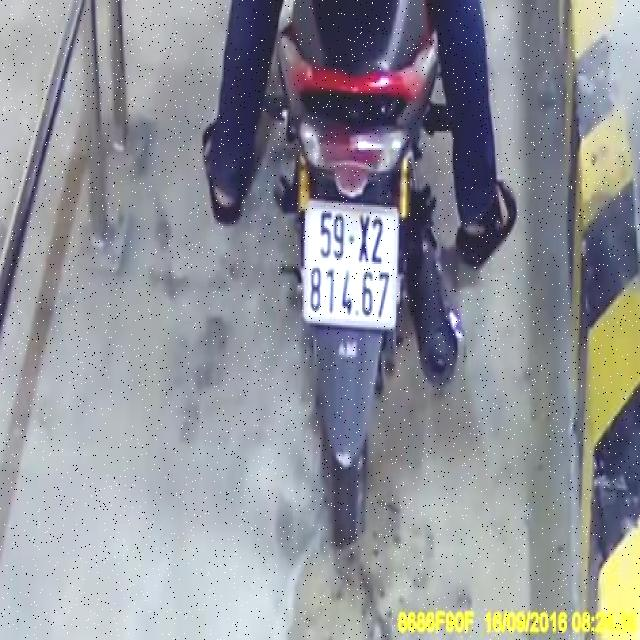1: (325, 268, 336, 314)
2: (372, 216, 384, 264)
4: (342, 271, 352, 315)
5: (320, 210, 332, 259)
6: (362, 270, 374, 316)
7: (378, 271, 390, 318)
8: (311, 266, 321, 312)
9: (334, 211, 346, 261)
X: (358, 214, 371, 264)
